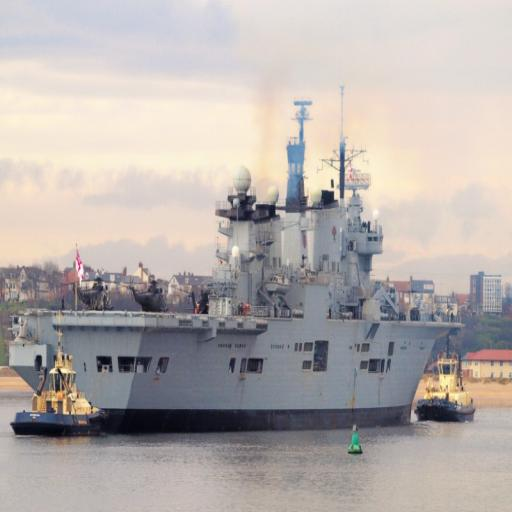Portanaves: (13, 97, 463, 438)
